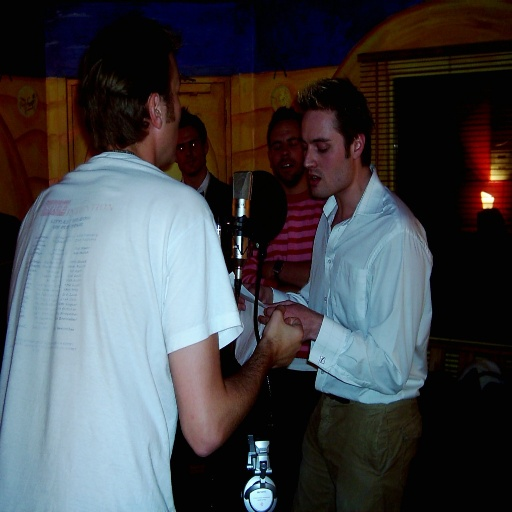hand: (257, 299, 319, 344), (236, 284, 266, 312), (260, 258, 272, 280)
